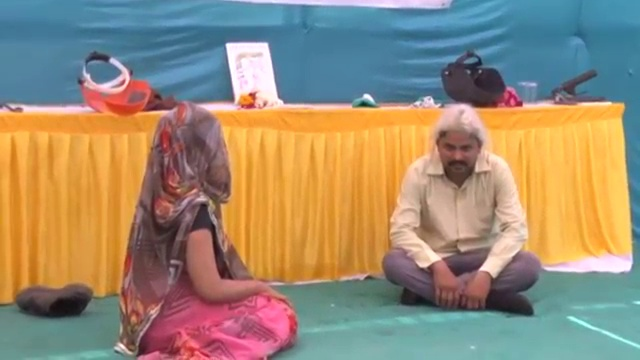helmet_off: (149, 103, 229, 202), (430, 105, 484, 180)
person: (118, 100, 301, 360), (381, 105, 543, 315)
